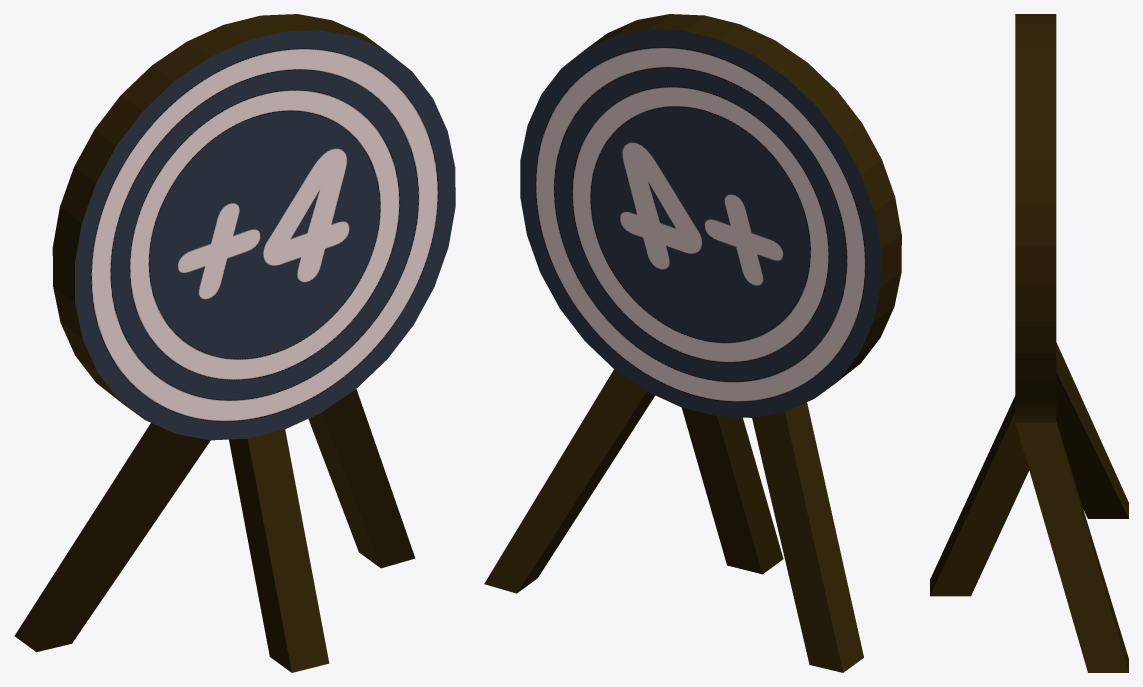
The model's file is renk2.fbx.
3 renders of one model, left to right at view 1: azimuth 30°, elevation 25°; view 2: azimuth 150°, elevation 25°; view 3: azimuth 270°, elevation 25°, orthographic. The views are drawn at different scales.
Parts seen in each view (by area): view 1: Cylinder; view 2: Cylinder; view 3: Cylinder.
Part boxes in pixels (bbox=[...]): Cylinder: bbox=[14, 14, 455, 672]; Cylinder: bbox=[484, 14, 901, 672]; Cylinder: bbox=[930, 14, 1128, 672].
Bounding box in the file's own units: 199 × 299 × 97.2.
2 materials, 1 textured.
